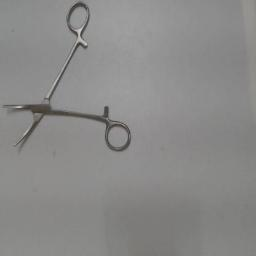Crile Artery Forceps: (0, 1, 134, 155)
